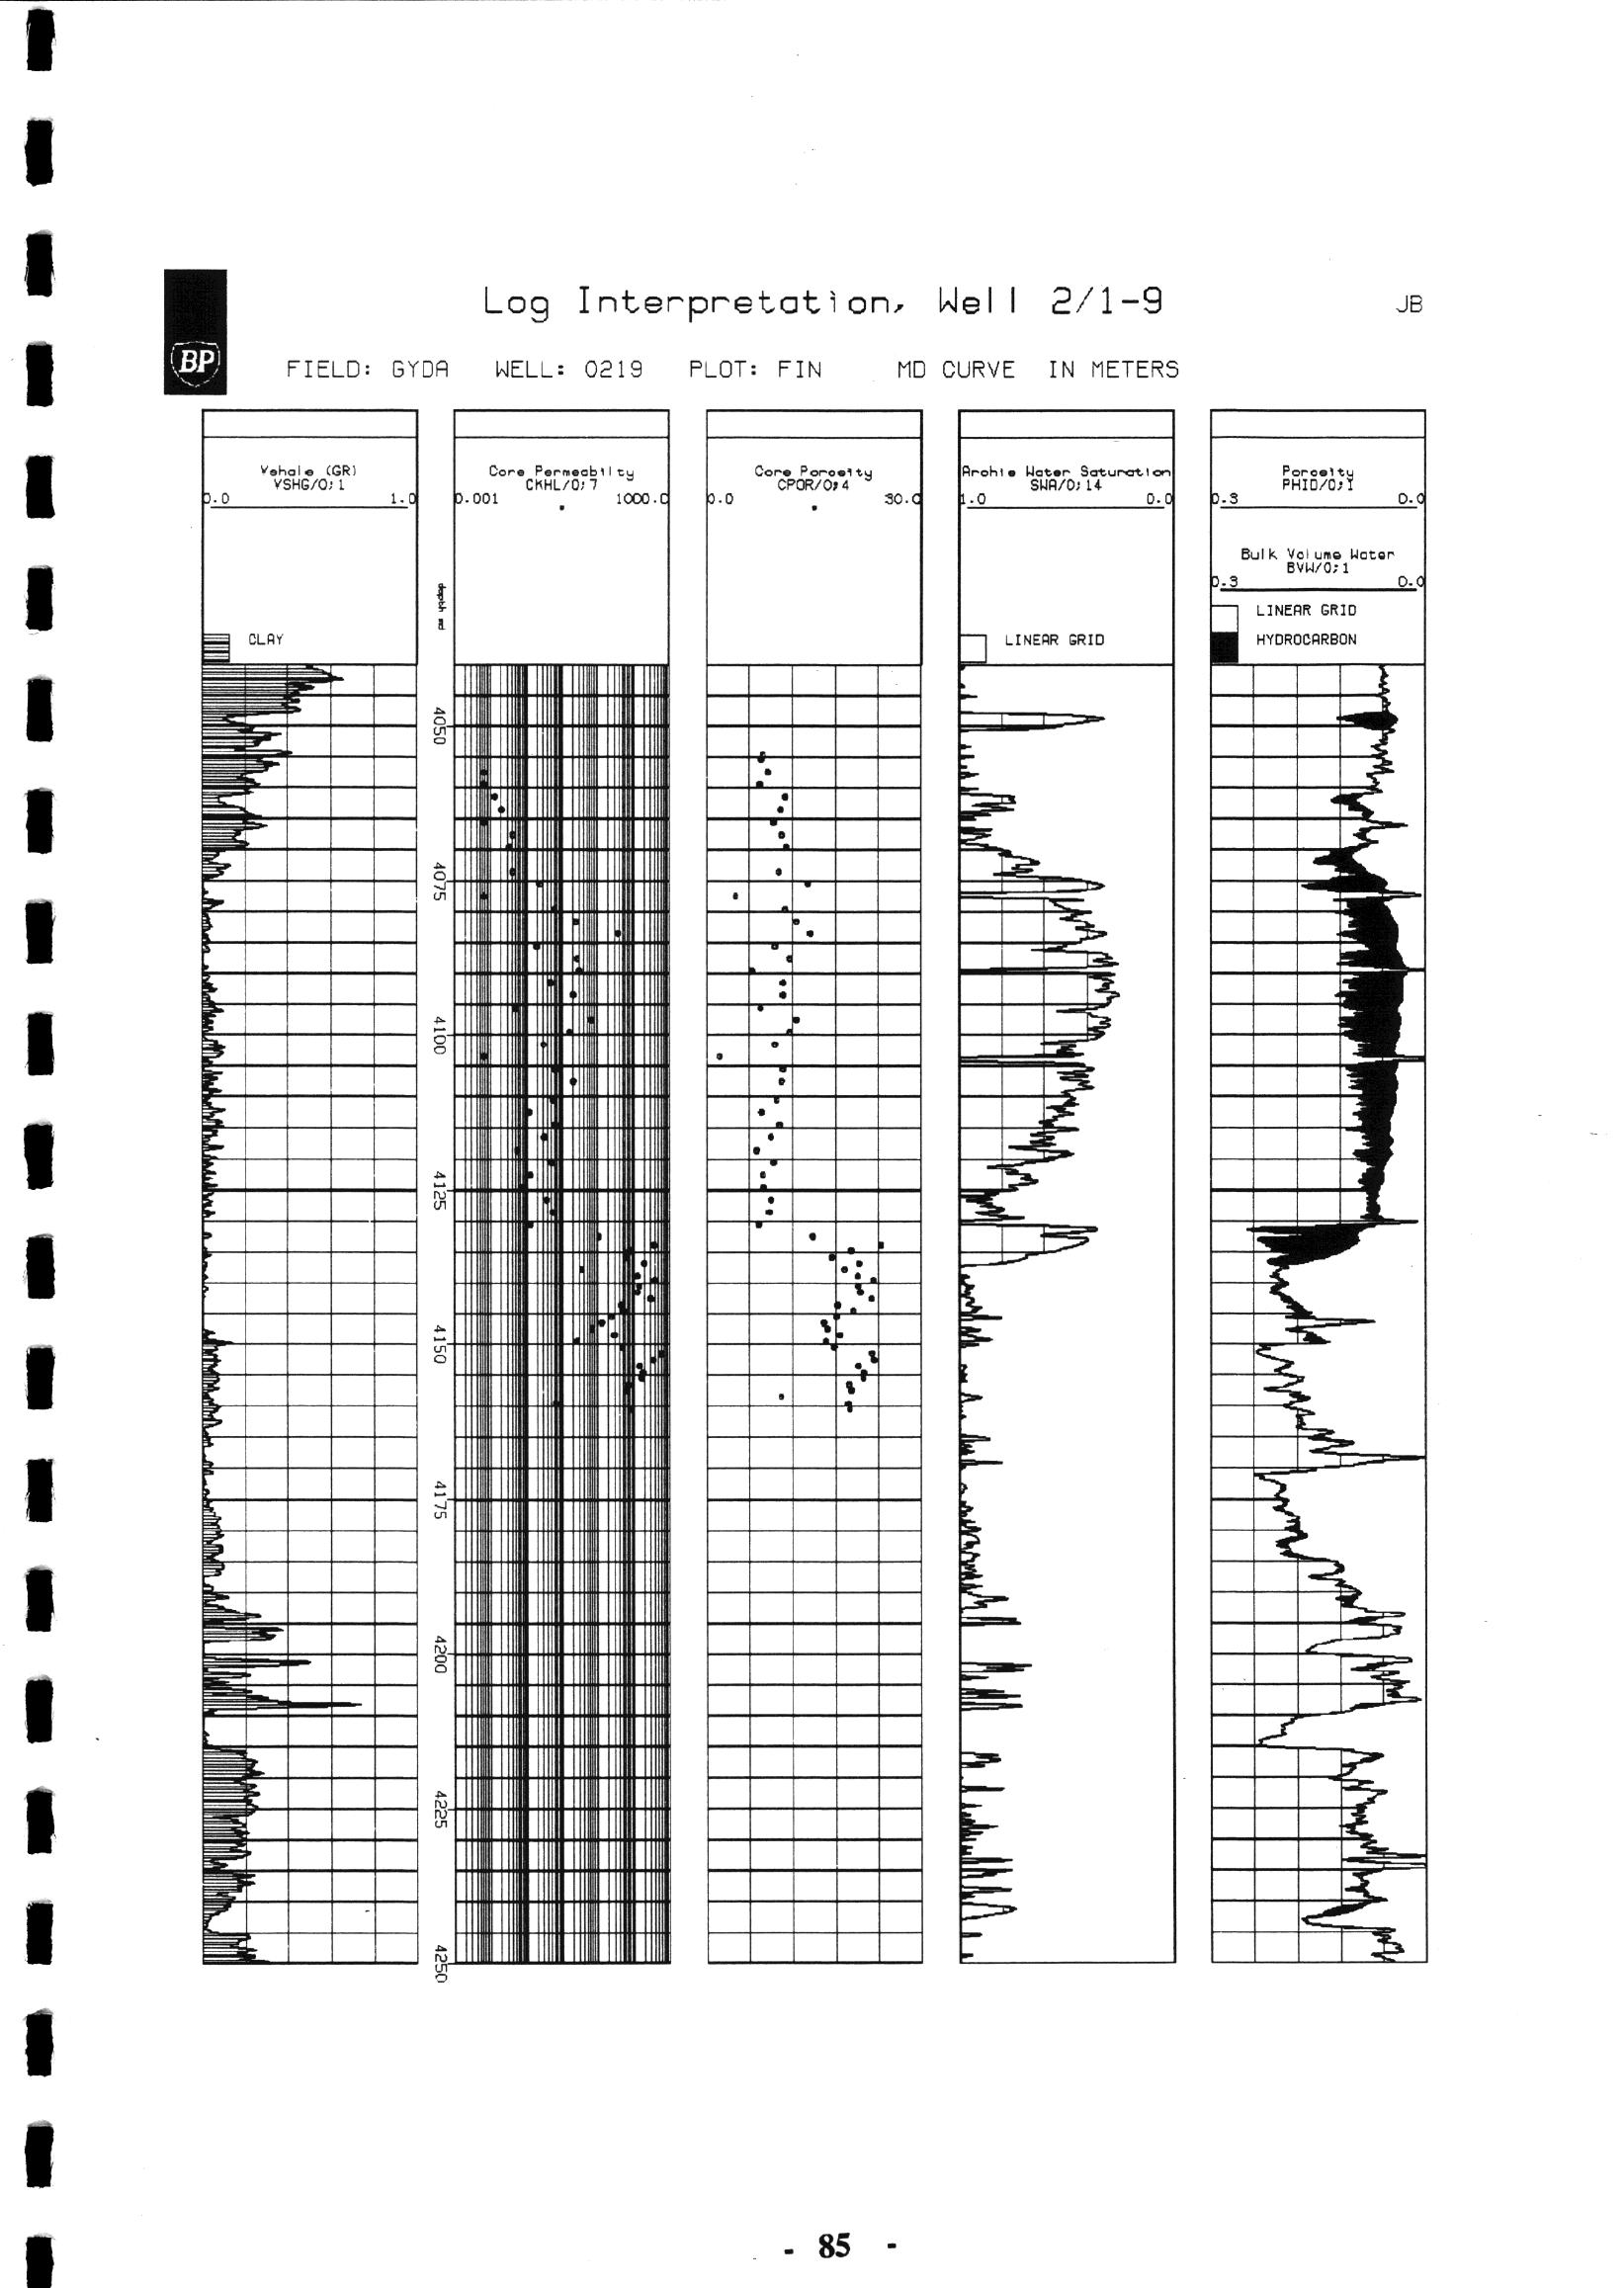graph: (680, 402, 939, 1986), (434, 402, 691, 1984), (1192, 392, 1448, 1973), (185, 392, 429, 1979), (944, 401, 1183, 1982)
text: (267, 267, 1202, 390)
undefined: (139, 255, 246, 401)
